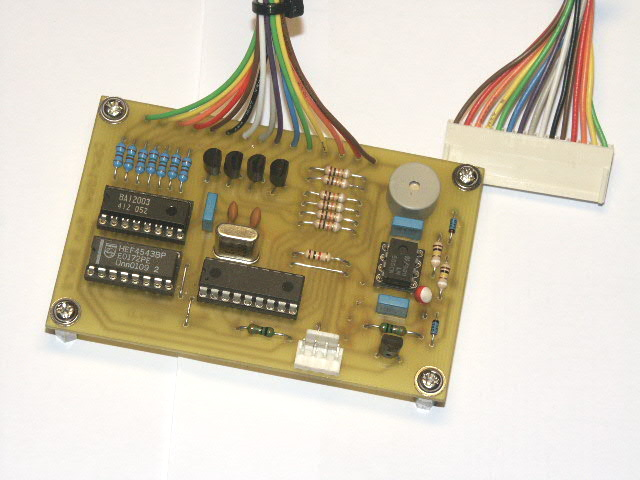resistor: (248, 323, 277, 338), (313, 219, 342, 233), (380, 323, 408, 336), (437, 263, 450, 291), (124, 144, 137, 171), (179, 155, 191, 183), (169, 152, 181, 180), (136, 147, 148, 175), (319, 190, 348, 201), (431, 241, 443, 267), (307, 250, 333, 262), (325, 175, 349, 188), (325, 166, 351, 178), (317, 200, 345, 211), (158, 149, 169, 177), (314, 211, 344, 221), (113, 144, 124, 171), (148, 150, 157, 176), (431, 319, 440, 337), (449, 218, 457, 236)
